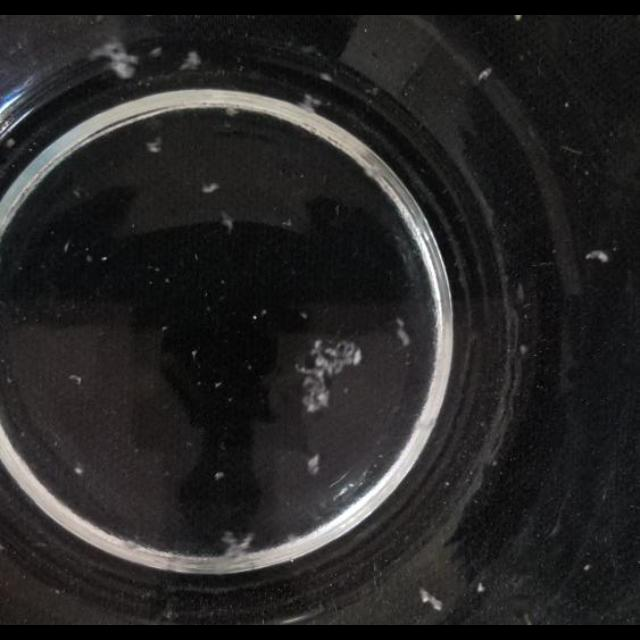Fibre: (489, 280, 523, 446), (294, 335, 364, 413), (90, 41, 138, 81), (220, 532, 256, 558), (394, 315, 411, 347), (178, 50, 202, 72), (300, 92, 322, 114), (306, 454, 320, 476), (145, 137, 163, 153), (220, 212, 234, 232), (478, 68, 492, 82)
microbeads: (419, 588, 443, 612), (586, 249, 610, 263), (201, 180, 219, 193), (68, 374, 82, 386), (475, 581, 485, 593), (213, 471, 224, 481), (298, 310, 308, 320), (74, 465, 84, 475), (282, 218, 292, 228), (72, 188, 82, 198), (191, 348, 199, 360), (160, 324, 168, 334), (582, 563, 592, 571), (520, 344, 528, 354), (214, 381, 222, 389), (260, 309, 268, 317), (64, 242, 70, 252), (163, 276, 170, 284), (86, 254, 92, 262), (102, 256, 108, 262), (251, 314, 257, 320), (443, 482, 449, 488), (564, 102, 570, 108)
